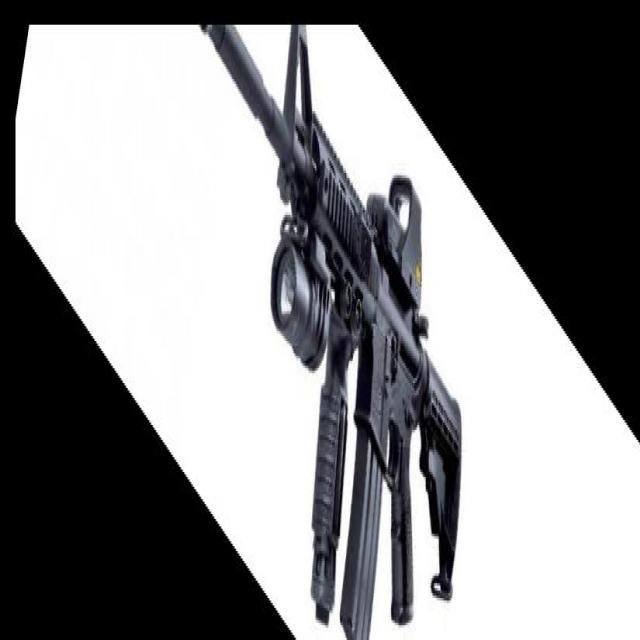weapon: (201, 24, 461, 640)
